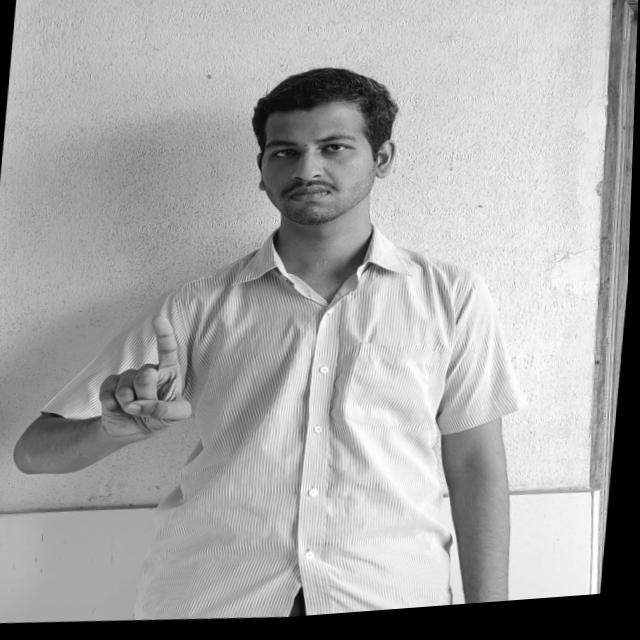Question: (98, 313, 205, 448)
